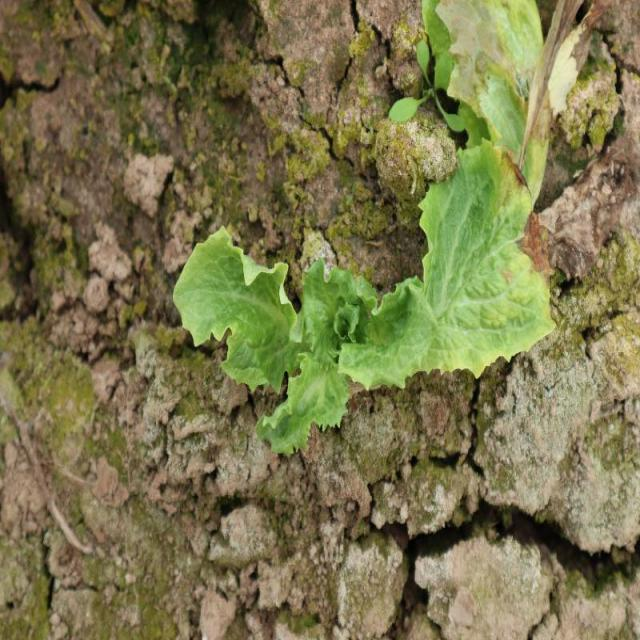crop: (168, 0, 560, 455)
